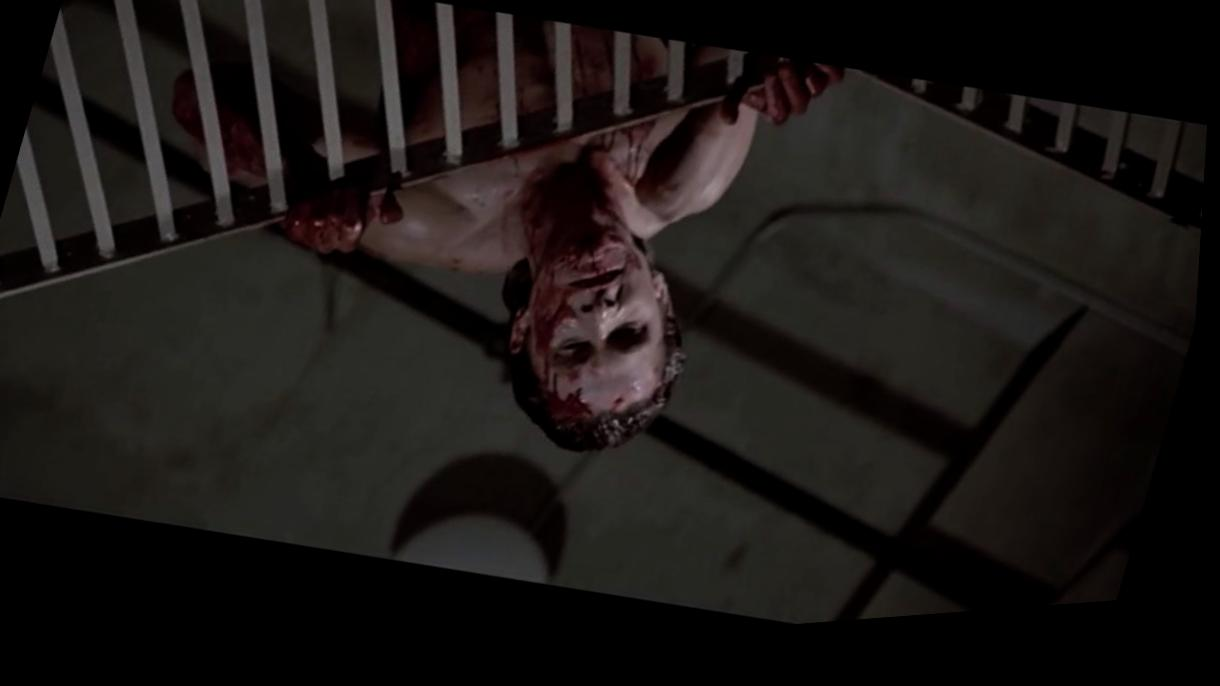Fire: (506, 130, 676, 426), (721, 74, 846, 137), (212, 70, 266, 187), (284, 194, 381, 258), (172, 77, 203, 150)
